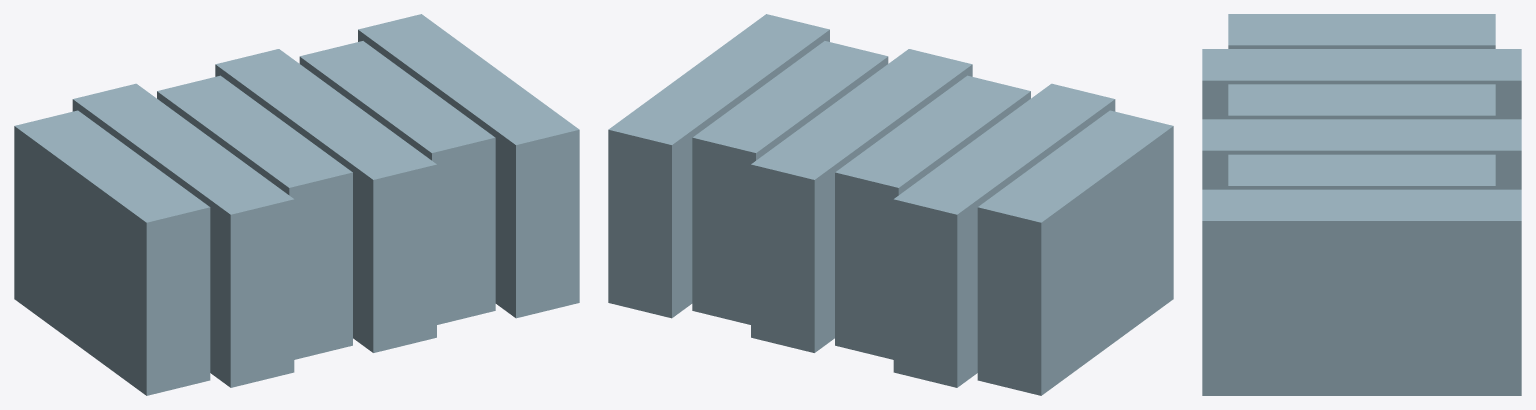
The model's file is ice_wall.glb.
3 renders of one model, left to right at view 1: azimuth 30°, elevation 25°; view 2: azimuth 150°, elevation 25°; view 3: azimuth 270°, elevation 25°, orthographic.
Visible parts, largest first — view 1: ice_wall_0, ice_wall_1, ice_wall_5, ice_wall_3, ice_wall_4, ice_wall_2; view 2: ice_wall_0, ice_wall_1, ice_wall_5, ice_wall_3, ice_wall_4, ice_wall_2; view 3: ice_wall_5, ice_wall_3, ice_wall_1, ice_wall_2, ice_wall_4, ice_wall_0.
Boxes of the visible parts, x1,y1,x2,y2 form: ice_wall_0: [14, 110, 210, 395]; ice_wall_1: [72, 83, 294, 387]; ice_wall_5: [358, 14, 579, 318]; ice_wall_3: [215, 49, 436, 352]; ice_wall_4: [299, 41, 495, 324]; ice_wall_2: [157, 75, 352, 359]; ice_wall_0: [977, 110, 1173, 395]; ice_wall_1: [893, 83, 1115, 387]; ice_wall_5: [608, 14, 829, 318]; ice_wall_3: [751, 49, 972, 352]; ice_wall_4: [692, 41, 888, 324]; ice_wall_2: [835, 75, 1030, 359]; ice_wall_5: [1202, 189, 1521, 395]; ice_wall_3: [1202, 119, 1521, 189]; ice_wall_1: [1202, 49, 1521, 119]; ice_wall_2: [1228, 84, 1495, 119]; ice_wall_4: [1228, 154, 1495, 189]; ice_wall_0: [1228, 14, 1495, 48].
Size of the model in its own units: 3.3 by 1.3 by 2.15.
